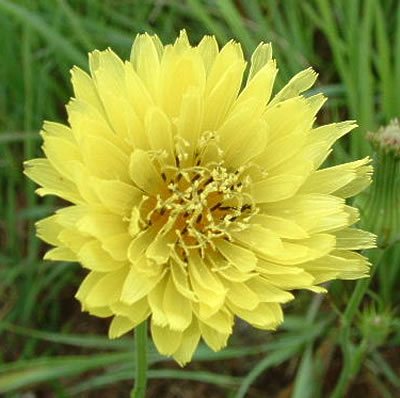dandelion: (43, 66, 336, 317)
